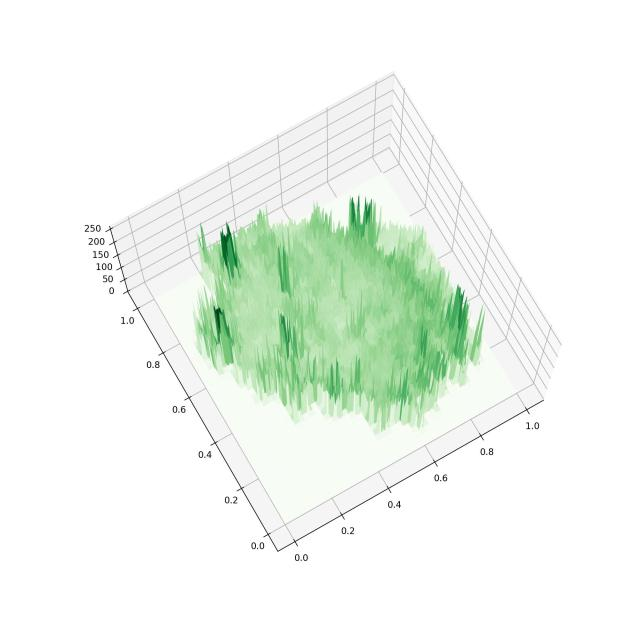spruce: (70, 60, 584, 595)
